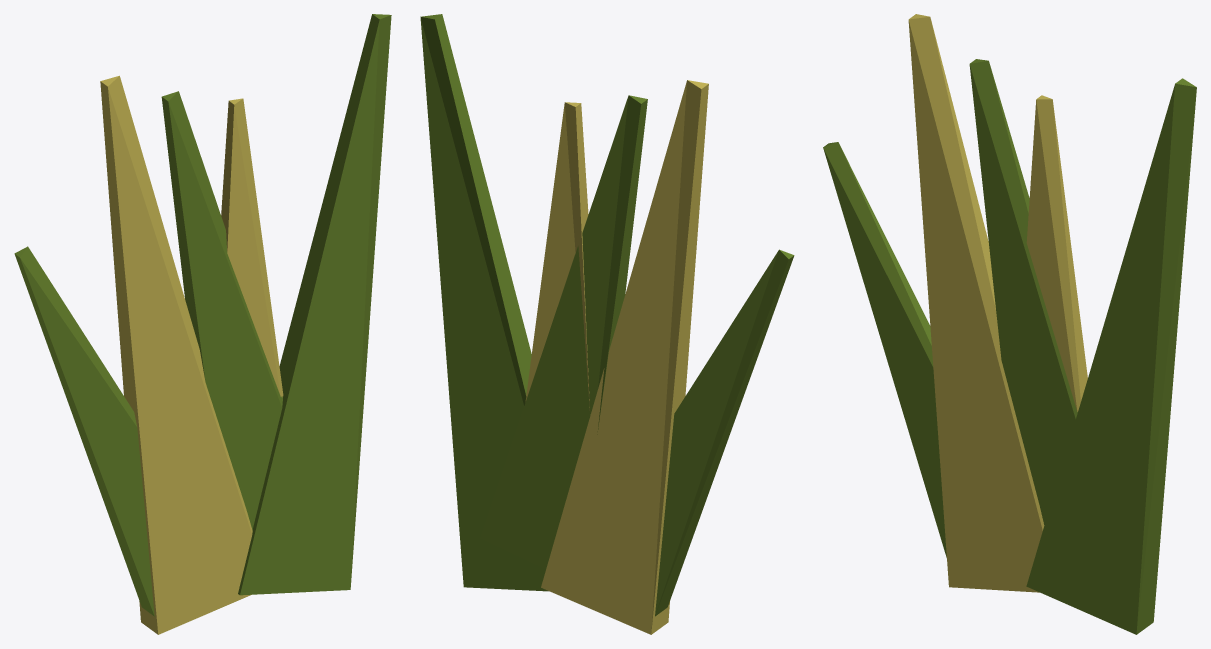
Rendered from Grass_1_Autumn_1_vc.fbx.
3 renders of one model, left to right at view 1: azimuth 30°, elevation 25°; view 2: azimuth 150°, elevation 25°; view 3: azimuth 330°, elevation 25°, orthographic.
Parts seen in each view (by area): view 1: Grass_1_Autumn_1_vc; view 2: Grass_1_Autumn_1_vc; view 3: Grass_1_Autumn_1_vc.
Boxes of the visible parts, left/top/right/bottom form: Grass_1_Autumn_1_vc: left=14, top=14, right=391, bottom=634; Grass_1_Autumn_1_vc: left=420, top=14, right=794, bottom=634; Grass_1_Autumn_1_vc: left=823, top=14, right=1196, bottom=634.
Size of the model in its own units: 0.6143 by 0.8784 by 0.0548.
